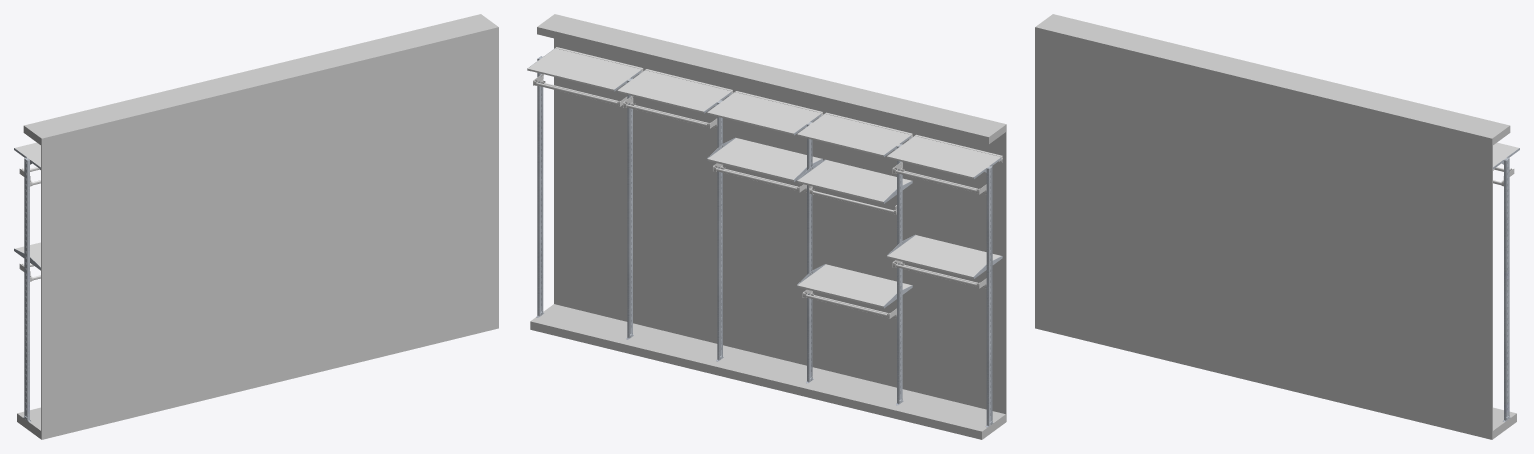
3 renders of one model, left to right at view 1: azimuth 30°, elevation 25°; view 2: azimuth 150°, elevation 25°; view 3: azimuth 330°, elevation 25°, orthographic.
Parts seen in each view (by area): view 1: Geom3D_, Geom3D_组件#2; view 2: Geom3D_, Geom3D_组件#16 (×5), Geom3D_组件#15_木层板（中间） copy 002 (×4), Geom3D_组件#2 (×6), Geom3D_组件#11_双衣杆 copy 002 (×6); view 3: Geom3D_, Geom3D_组件#2.
Boxes of the visible parts, <box> form: Geom3D_: <box>17,14,498,439</box>; Geom3D_组件#2: <box>23,157,30,421</box>; Geom3D_: <box>530,14,1006,439</box>; Geom3D_组件#16 (×5): <box>527,47,1002,178</box>; Geom3D_组件#15_木层板（中间） copy 002 (×4): <box>707,138,1000,308</box>; Geom3D_组件#2 (×6): <box>536,56,993,427</box>; Geom3D_组件#11_双衣杆 copy 002 (×6): <box>533,74,986,318</box>; Geom3D_: <box>1035,14,1516,439</box>; Geom3D_组件#2: <box>1503,157,1510,421</box>.
Size of the model in its own units: 4.53 by 2.85 by 0.5216.
Materials: 2 (1 with a texture image).
